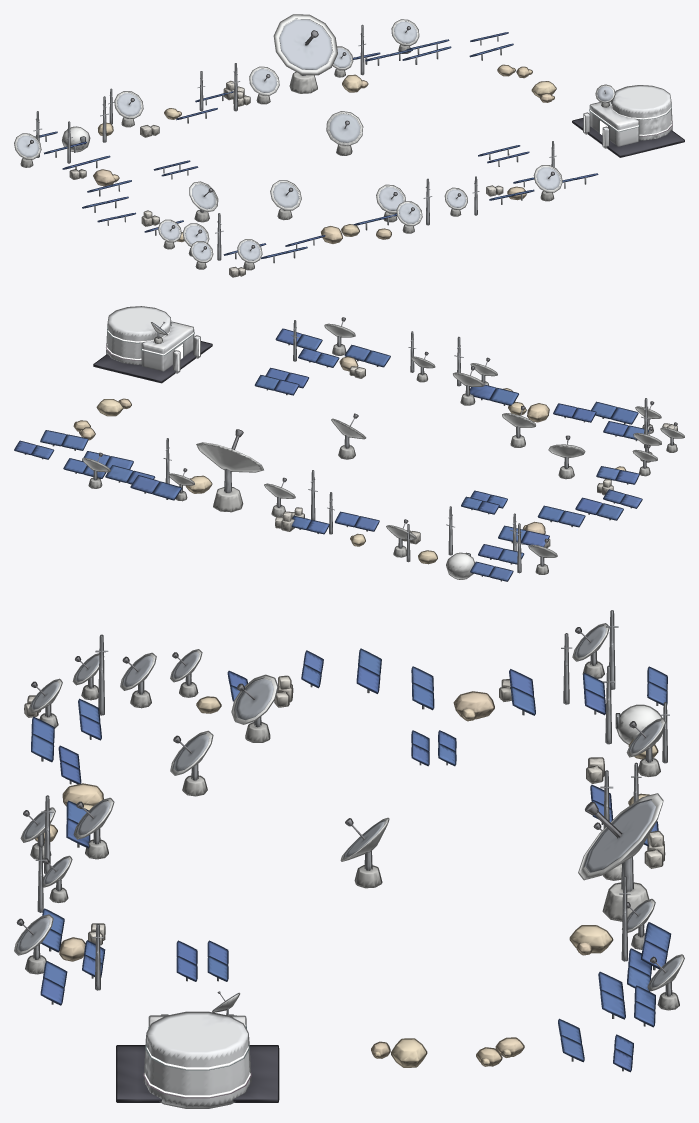
The model's file is dish_array.glb.
3 views of the same model, one above another, from view 1: azimuth 30°, elevation 25°; view 2: azimuth 150°, elevation 25°; view 3: azimuth 270°, elevation 25° (orthographic). The views are drawn at different scales.
Visible parts, largest first — view 1: Baked_matte, Baked_satin, Baked_matte_Outline, Baked_gloss_Outline, Baked_metal, Baked_gloss, Baked_metal_Outline, Baked_satin_Outline; view 2: Baked_matte, Baked_gloss, Baked_matte_Outline, Baked_gloss_Outline, Baked_metal, Baked_metal_Outline, Baked_satin; view 3: Baked_matte, Baked_gloss, Baked_satin, Baked_matte_Outline, Baked_gloss_Outline, Baked_metal, Baked_metal_Outline, Baked_satin_Outline.
Boxes of the visible parts, bbox=[...] form: Baked_matte: bbox=[14, 15, 671, 276]; Baked_satin: bbox=[16, 19, 684, 260]; Baked_matte_Outline: bbox=[14, 14, 672, 277]; Baked_gloss_Outline: bbox=[35, 32, 598, 258]; Baked_metal: bbox=[33, 25, 586, 263]; Baked_gloss: bbox=[39, 32, 597, 258]; Baked_metal_Outline: bbox=[36, 24, 554, 260]; Baked_satin_Outline: bbox=[29, 18, 684, 252]; Baked_matte: bbox=[74, 307, 683, 579]; Baked_gloss: bbox=[15, 329, 648, 580]; Baked_matte_Outline: bbox=[73, 306, 684, 579]; Baked_gloss_Outline: bbox=[14, 328, 648, 581]; Baked_metal: bbox=[24, 321, 673, 581]; Baked_metal_Outline: bbox=[93, 320, 673, 573]; Baked_satin: bbox=[94, 323, 211, 382]; Baked_matte: bbox=[15, 624, 683, 1107]; Baked_gloss: bbox=[32, 649, 669, 1070]; Baked_satin: bbox=[17, 626, 680, 1101]; Baked_matte_Outline: bbox=[14, 623, 684, 1108]; Baked_gloss_Outline: bbox=[31, 648, 671, 1072]; Baked_metal: bbox=[34, 611, 670, 1071]; Baked_metal_Outline: bbox=[33, 610, 672, 995]; Baked_satin_Outline: bbox=[16, 625, 680, 1102].
Size of the model in its own units: 41.82 by 5.72 by 26.68.
